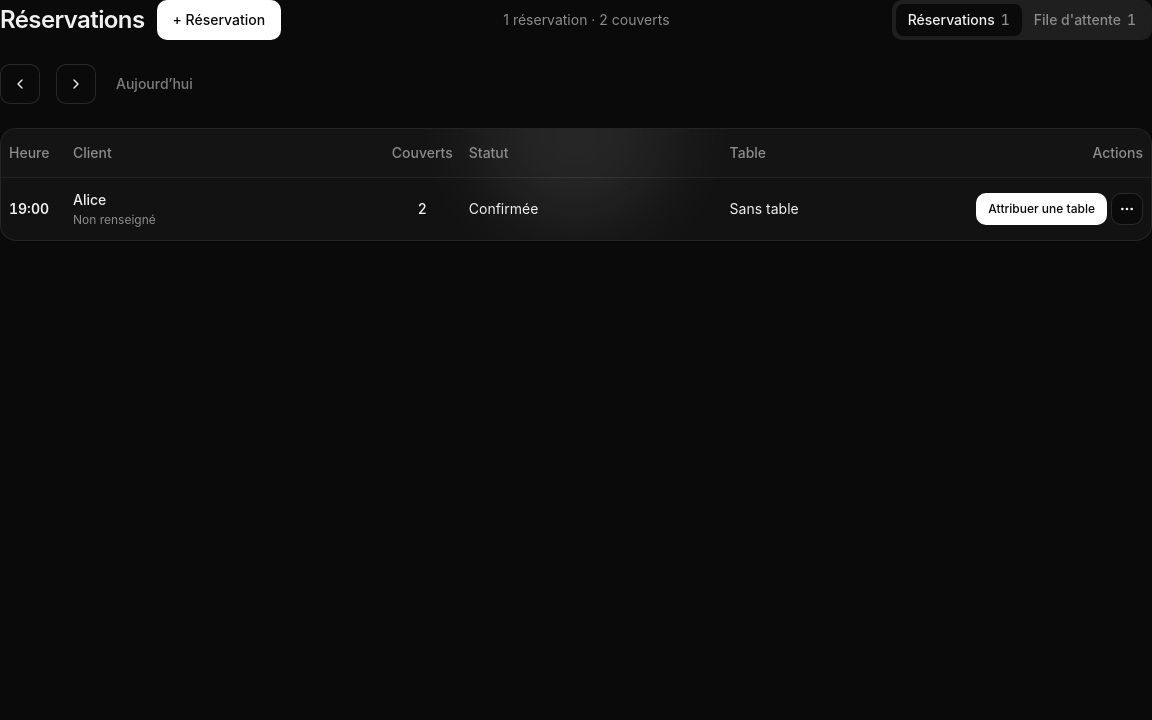
it: ReservationsPage › enregistre puis recharge les réservations
The image size is (1152, 720).
Click the text "Alice".
click(90, 199)  # box [73, 190, 106, 208]
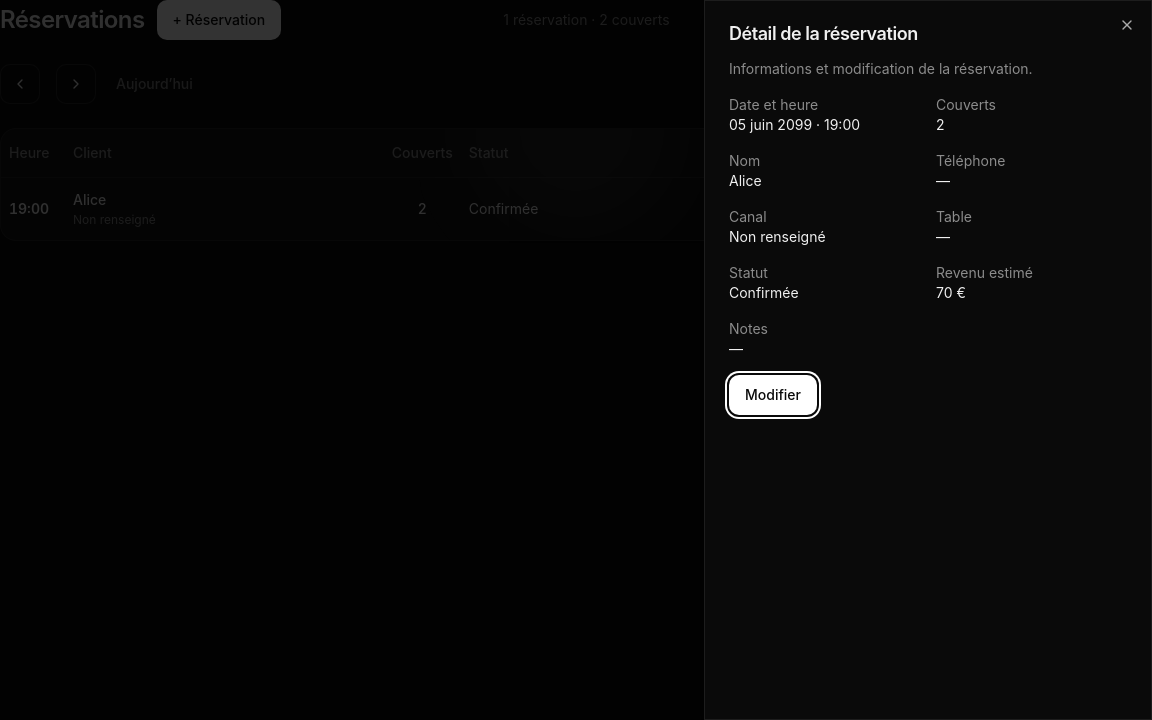
Click the button "Modifier".
click(773, 395)  # box [729, 375, 817, 415]
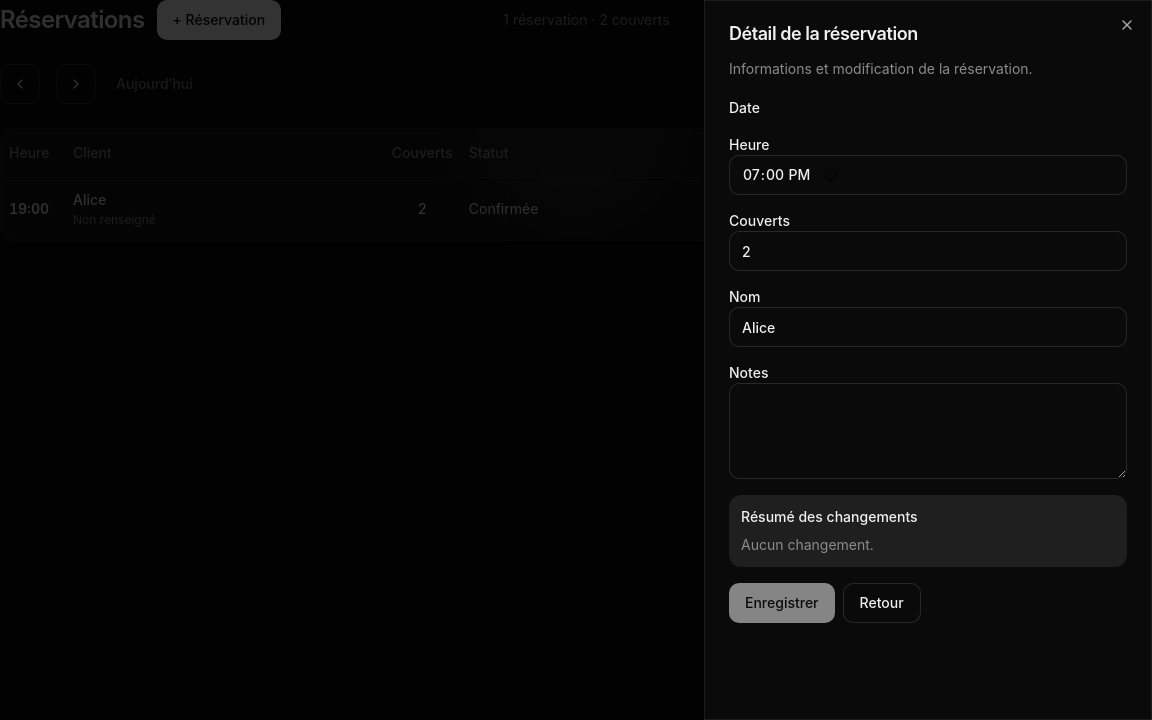
Replace the text in the field labelled "Nom" with "Alice Martin" at (928, 327), box [729, 307, 1127, 347]
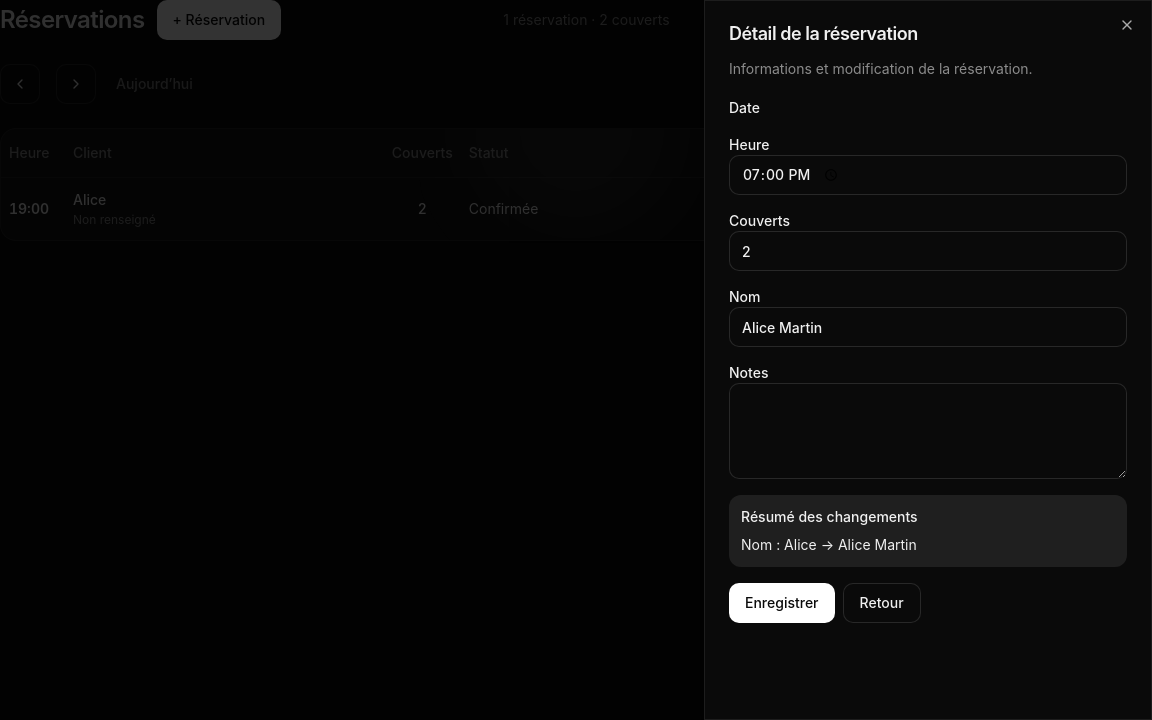
Click the button "Enregistrer".
click(782, 603)  # box [729, 583, 834, 623]
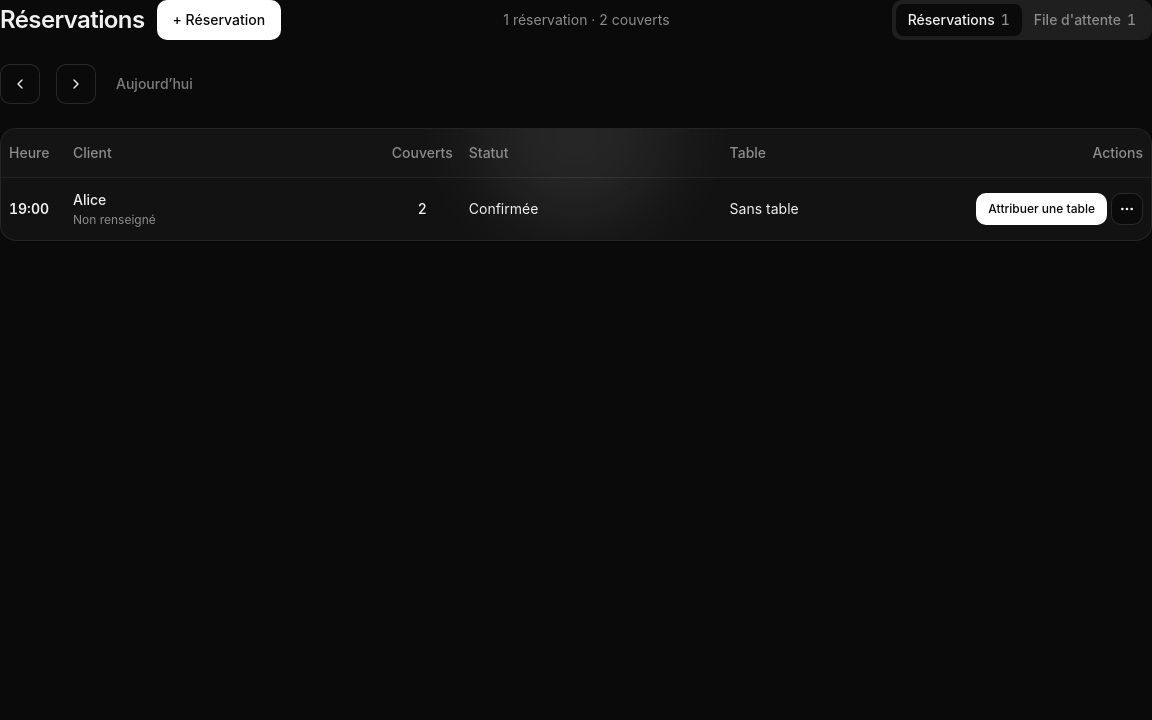
expect the heading "Détail de la réservation" is gone: met
